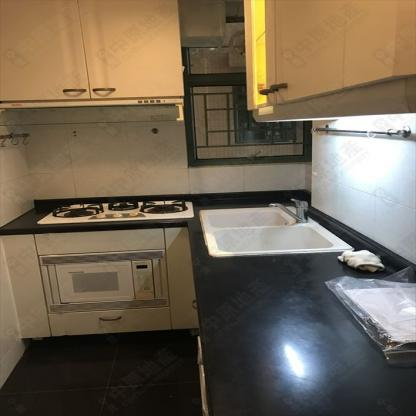Cupboard: (0, 0, 186, 102)
Exhaust Fan: (227, 30, 245, 59)
Exhaust Hood: (0, 97, 185, 108)
Faucet: (268, 198, 314, 224)
Microwave: (39, 250, 170, 315)
Sink: (202, 204, 349, 254)
Stove: (32, 196, 196, 224)
